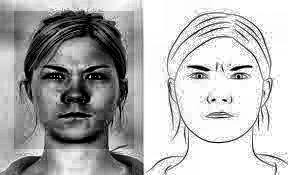angry: (14, 11, 134, 149)
